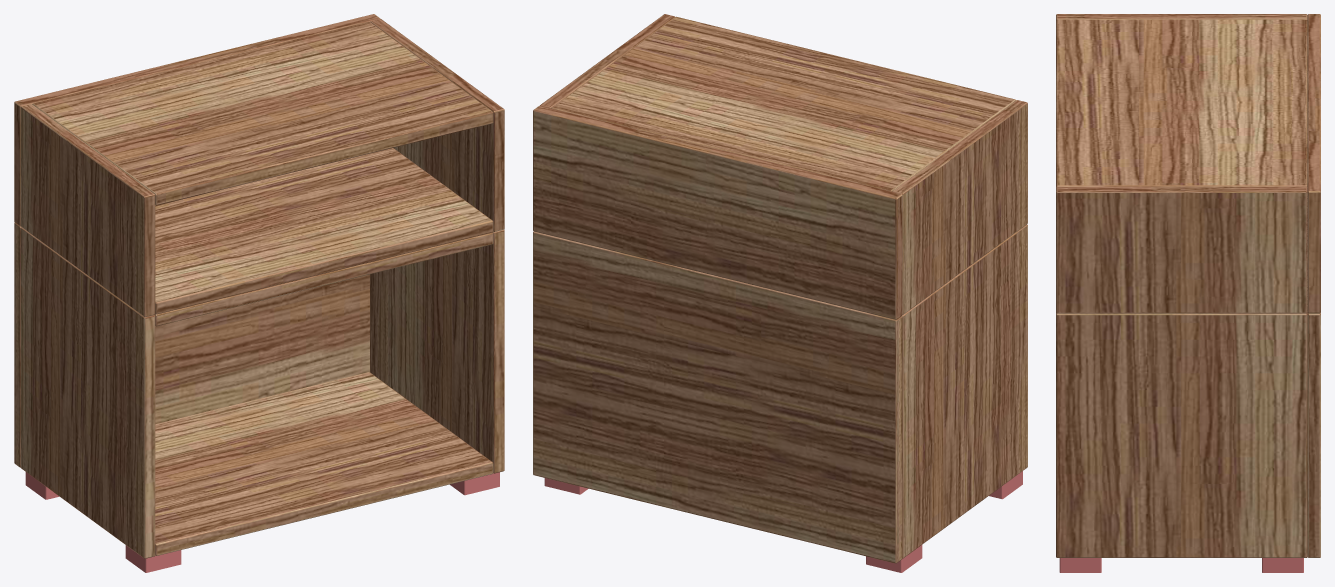
Rendered from Trion_Shelf_Cabinet_1OH_40x60_FINALA.fbx.
3 views of the same model, side by side, from view 1: azimuth 30°, elevation 25°; view 2: azimuth 150°, elevation 25°; view 3: azimuth 270°, elevation 25° (orthographic).
Parts seen in each view (by area): view 1: drewno_mesh, drewno2_mesh, szafka1:polySurface1; view 2: drewno2_mesh, drewno_mesh, szafka1:polySurface1; view 3: drewno_mesh, drewno2_mesh, szafka1:polySurface1.
Boxes of the visible parts, x1,y1,x2,y2 form: drewno_mesh: [20, 19, 504, 558]; drewno2_mesh: [14, 14, 380, 467]; szafka1:polySurface1: [25, 472, 499, 572]; drewno2_mesh: [533, 105, 902, 563]; drewno_mesh: [540, 14, 1027, 558]; szafka1:polySurface1: [544, 471, 1022, 572]; drewno_mesh: [1056, 14, 1307, 557]; drewno2_mesh: [1307, 14, 1320, 557]; szafka1:polySurface1: [1059, 558, 1303, 572].
Size of the model in its own units: 152 by 153 by 95.76.
